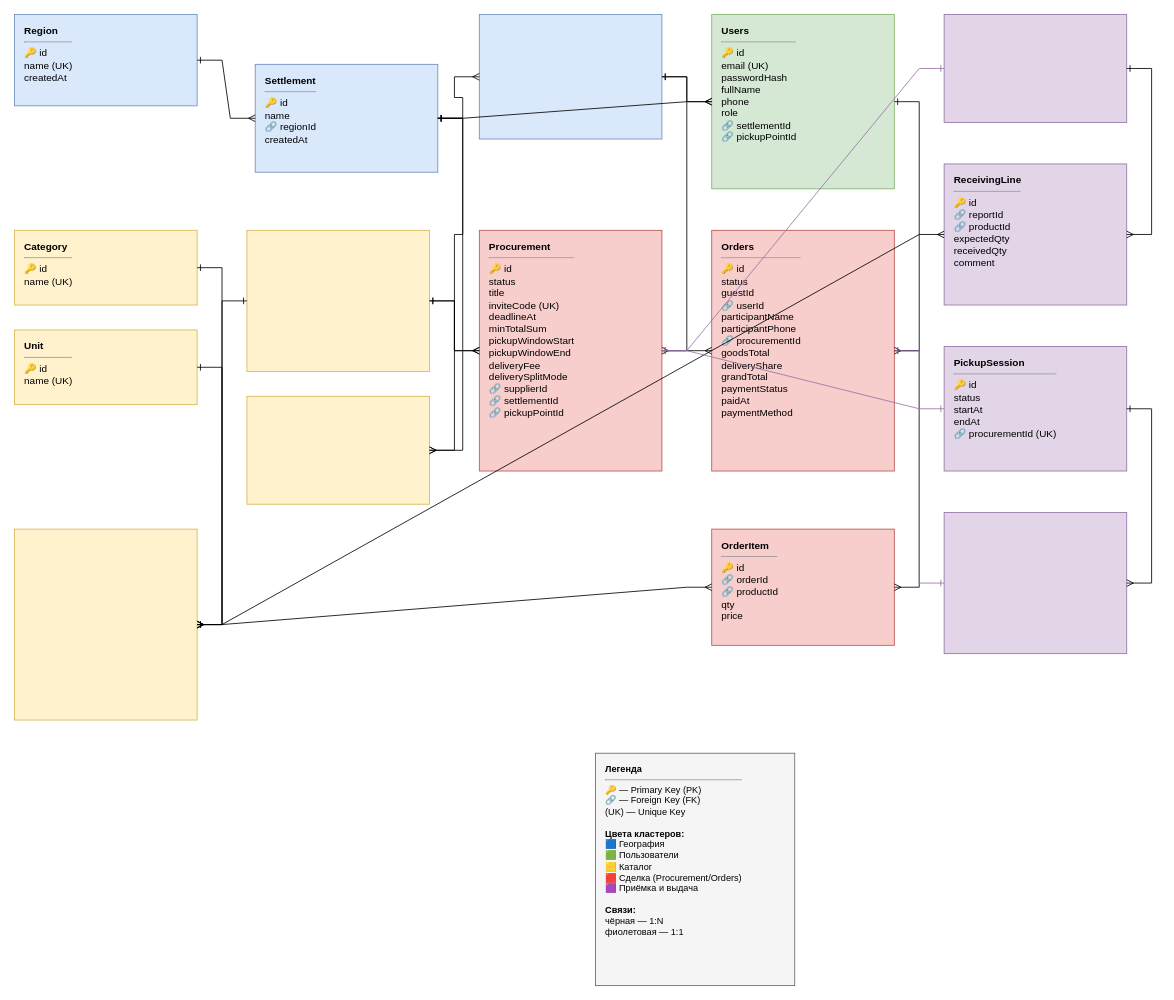
Some shapes in this 1174 by 1000 pixel diagram are drawn without their labels. The centre of each missing label's shape, as x and y in pixels:
PickupCheckin 🔑 id checkedAt note 🔗 sessionId 🔗 orderId (UK) operatorUserId: pixel 1035 583
PickupPoint 🔑 id name address hasFreezer 🔗 settlementId: pixel 570 76
Product 🔑 id name price sku imageUrl isActive 🔗 supplierId 🔗 categoryId 🔗 unitId: pixel 105 624
ReceivingReport 🔑 id status notes 🔗 procurementId (UK): pixel 1035 68
Supplier 🔑 id name (UK) minOrderSum phone email isActive: pixel 338 300
SupplierDeliveryZone 🔑 id 🔗 supplierId 🔗 settlementId isActive: pixel 338 449
